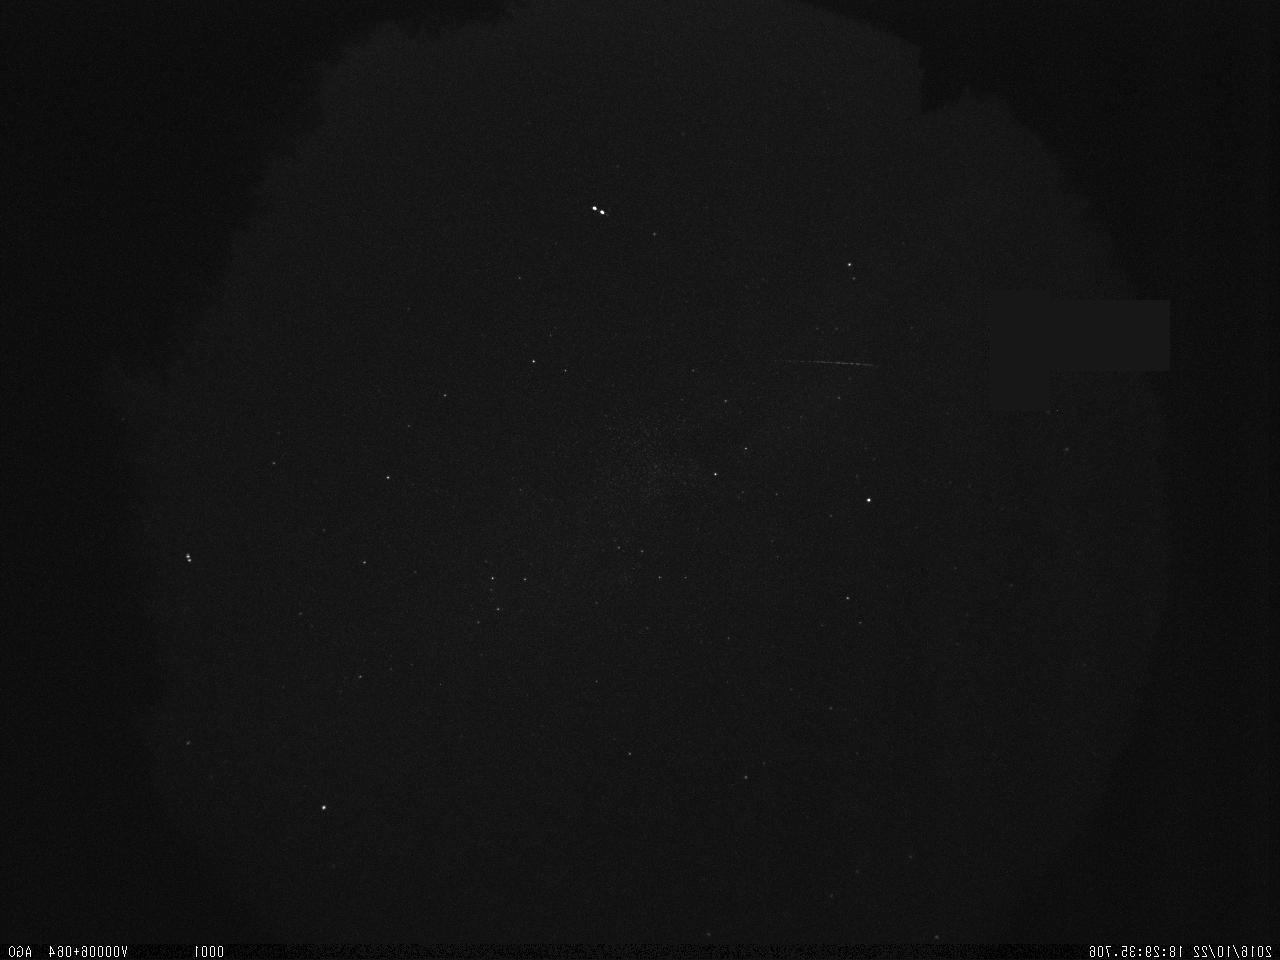meteor: (763, 339, 889, 387)
